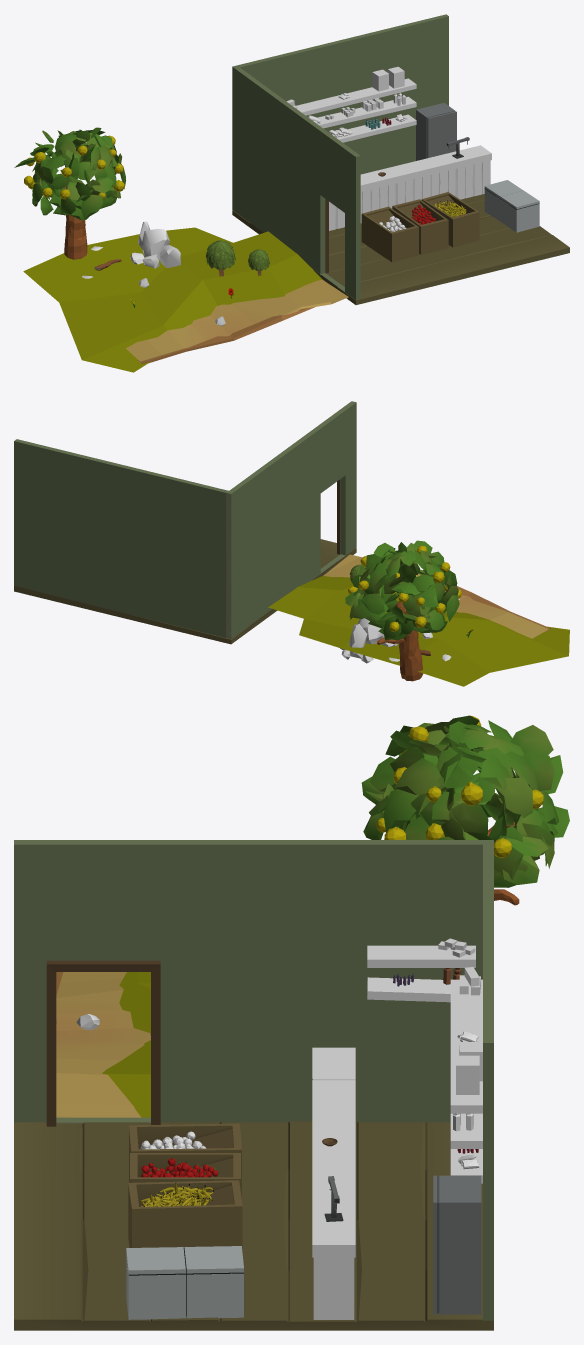
File: MerceariaBrumas.fbx
The picture shows the model from 3 angles, top to bottom: view 1: azimuth 30°, elevation 25°; view 2: azimuth 150°, elevation 25°; view 3: azimuth 270°, elevation 25°; orthographic projection. The views are drawn at different scales.
Parts seen in each view (by area): view 1: Mercearia, Water.002, Arvore.071, Cube.007, Cube.017, Cube.008, Cube.012, Cube.013, Cube.009, Arvore.070, Cube.010, Cube.011 (+3 smaller); view 2: Mercearia, Water.002, Arvore.071, Arvore.070, Pedras.005; view 3: Mercearia, Arvore.071, Water.002, Cube.008, Cube.013, Cube.017, Cube.009, Cube.010, Cube.012, Cube.007, Arvore.070, Cube.011 (+1 smaller).
Boxes of the visible parts, x1,y1,x2,y2 form: Mercearia: [232, 14, 569, 304]; Water.002: [23, 227, 348, 372]; Arvore.071: [14, 127, 125, 220]; Cube.007: [329, 160, 490, 230]; Cube.017: [296, 78, 416, 142]; Cube.008: [360, 145, 491, 191]; Cube.012: [361, 206, 418, 262]; Cube.013: [484, 180, 539, 232]; Cube.009: [416, 103, 456, 160]; Arvore.070: [24, 135, 124, 259]; Cube.010: [421, 192, 479, 247]; Cube.011: [392, 199, 448, 254]; Mercearia: [14, 401, 356, 644]; Water.002: [268, 554, 569, 686]; Arvore.071: [345, 540, 459, 640]; Arvore.070: [348, 545, 461, 681]; Pedras.005: [340, 618, 397, 663]; Mercearia: [14, 840, 493, 1330]; Arvore.071: [361, 715, 569, 887]; Water.002: [56, 972, 150, 1117]; Cube.008: [312, 1047, 355, 1257]; Cube.013: [126, 1246, 243, 1319]; Cube.017: [367, 945, 482, 1183]; Cube.009: [433, 1175, 481, 1314]; Cube.010: [128, 1180, 242, 1252]; Cube.012: [129, 1123, 241, 1199]; Cube.007: [313, 1257, 354, 1319]; Arvore.070: [376, 716, 543, 905]; Cube.011: [130, 1153, 240, 1192].
Size of the model in its own units: 1120 by 401 by 609.
